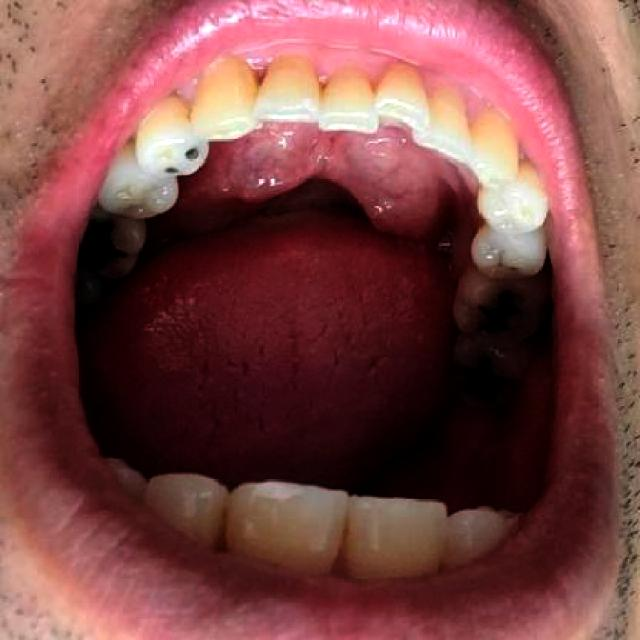Plaque: (104, 180, 163, 218), (489, 248, 526, 275)
